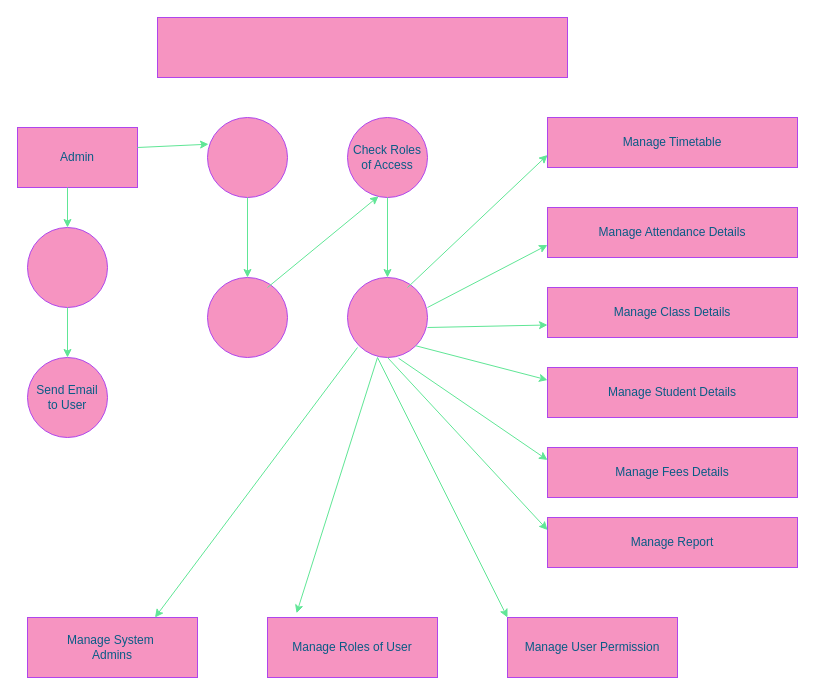
This 815x695 diagram has some shape labels left out. The shapes that lost their labels are listed below. From the top down, each one's box as (x1, y1, x2, y2) in pixels, then its label:
(156, 16, 568, 78): STUDENT INFORMATION SYSTEM
(206, 116, 288, 198): Login to System
(26, 226, 108, 308): Forget Password
(206, 276, 288, 358): Check Credentials
(346, 276, 428, 358): Manage Modules
